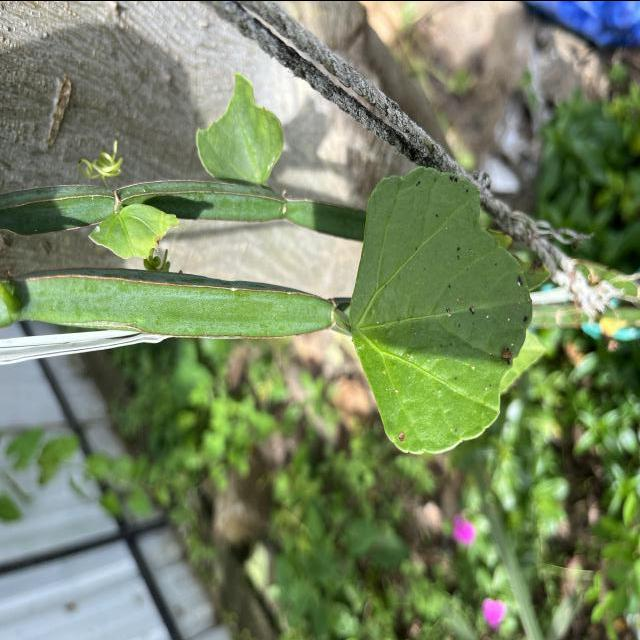Cissus quadrangularis: (346, 162, 534, 456)
